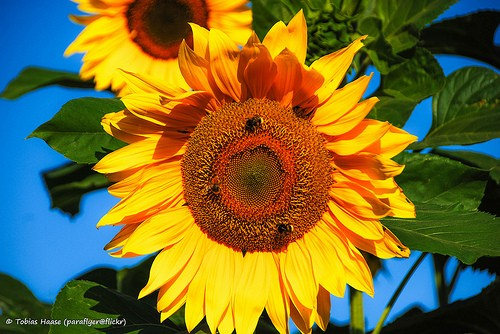flower: (94, 5, 418, 333), (61, 1, 256, 96)
